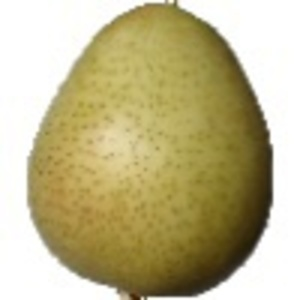pera: (10, 1, 275, 300)
